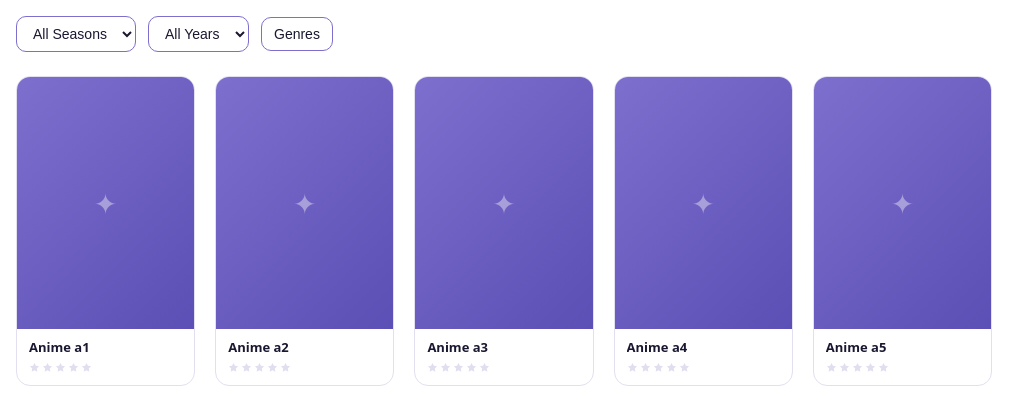
it: Home — pagination › resets to offset 0 and replaces the list — instead of appending — when a filter changes
The image size is (1009, 403).
Expected: the text "Anime a1" is shown, [29,338,90,356]
Expected: the text "Anime a4" is shown, [627,338,687,356]
Select "Winter" in the 1st dropdown showing "All Seasons": (76,34) [16,16,136,52]
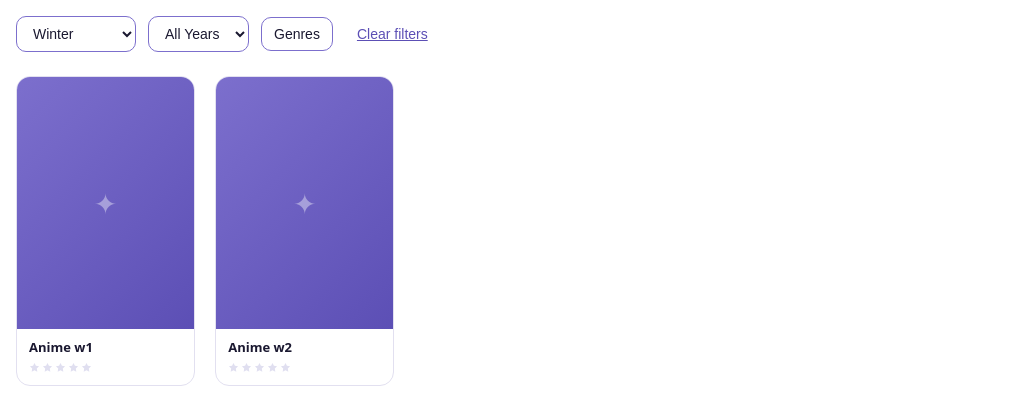
Result: the text "Anime w1" is shown at [29,338,93,356]
Result: the link "Anime a1" is gone
Result: the link "Anime a4" is gone
